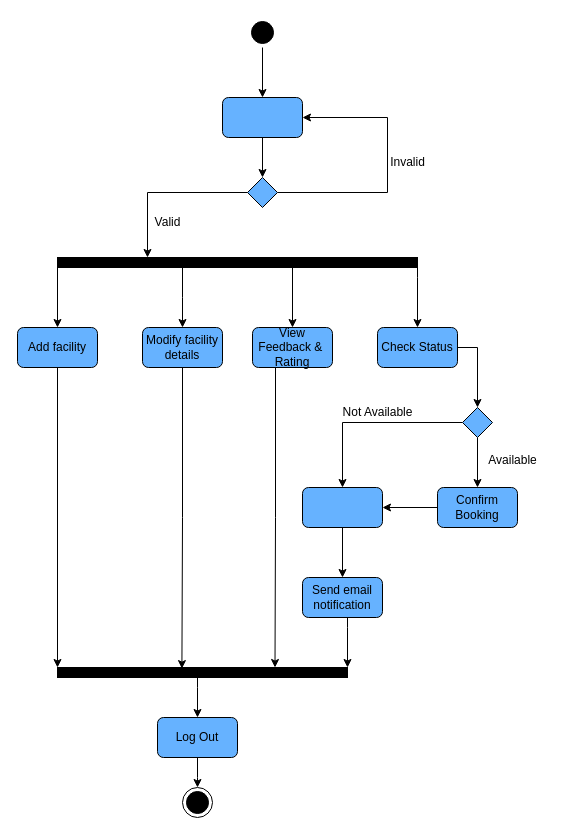
Image size: 565x835. Some labels were removed from this diagram. The box of each missing label's shape, as (x1, y1, x2, y2) in pixels:
Admin Login: (222, 96, 302, 138)
Update Status: (302, 486, 382, 528)
